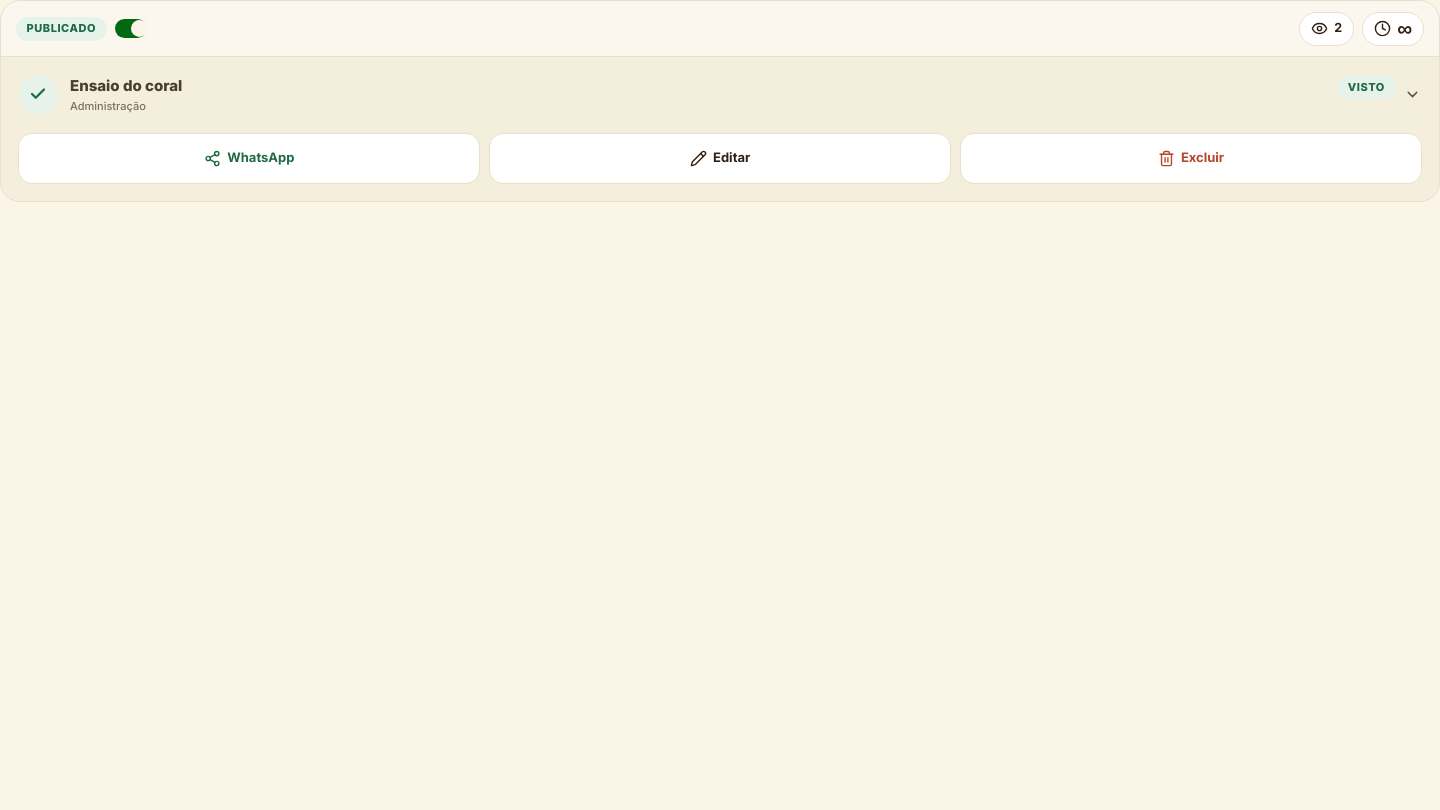
Test: AnnouncementCard — barra compacta do admin › sem total conhecido mostra só a contagem, sem barra
The width and height of the screenshot is (1440, 810).
Click the button named "2 viram" at (1327, 29), box [1299, 12, 1354, 46]
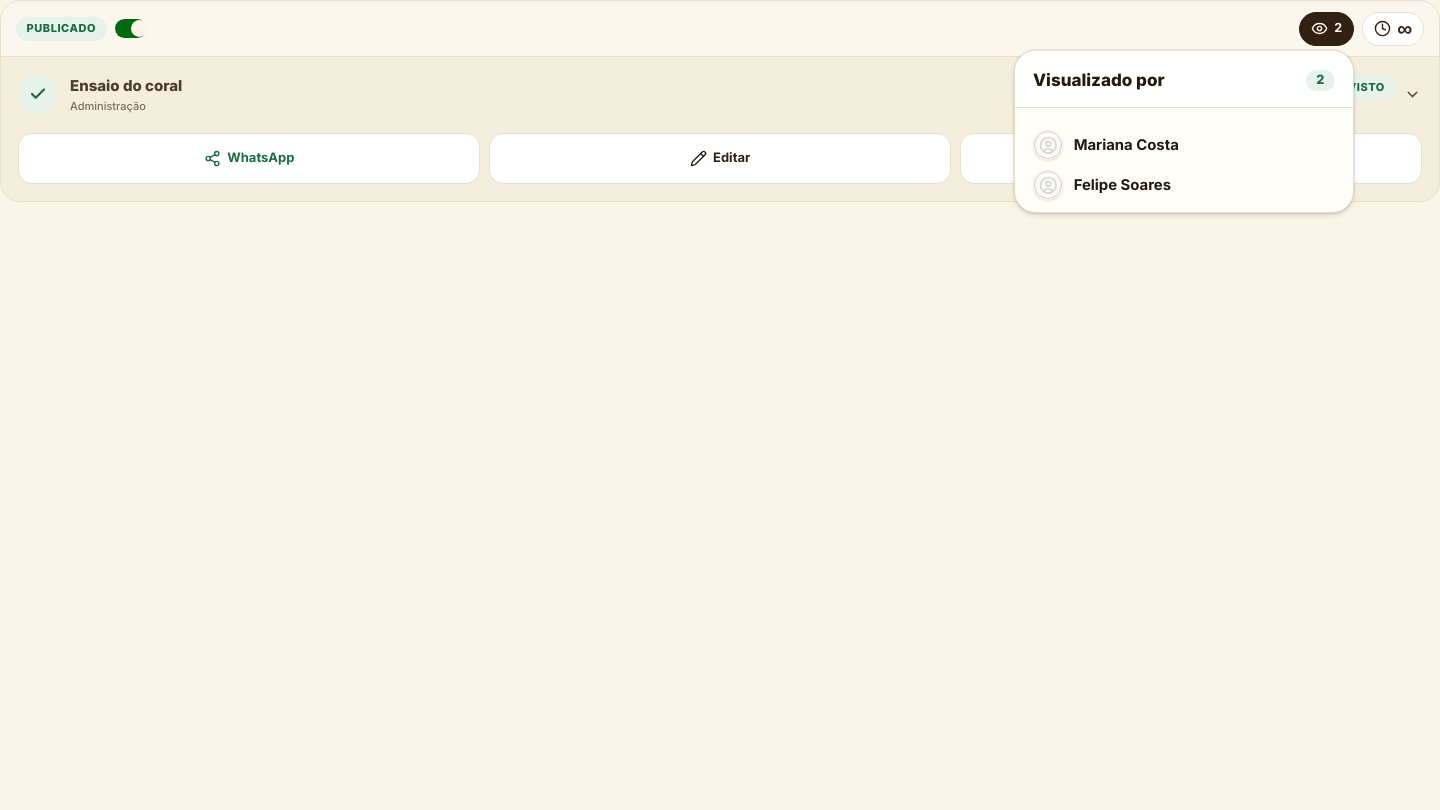
Expected: the heading "Visualizado por" is shown, [1033, 70, 1164, 90]
